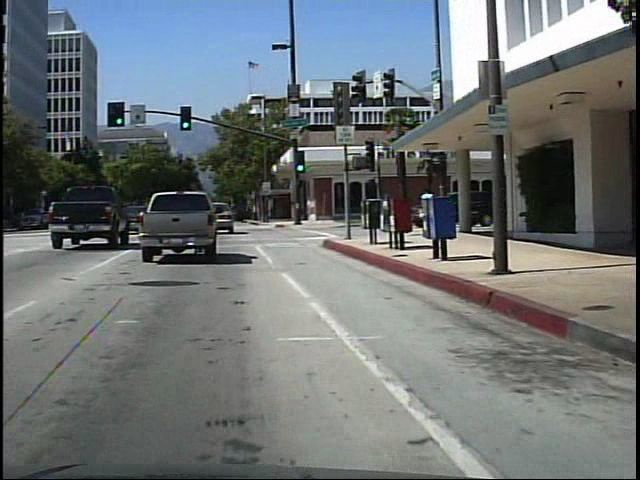person: (417, 185, 438, 233)
